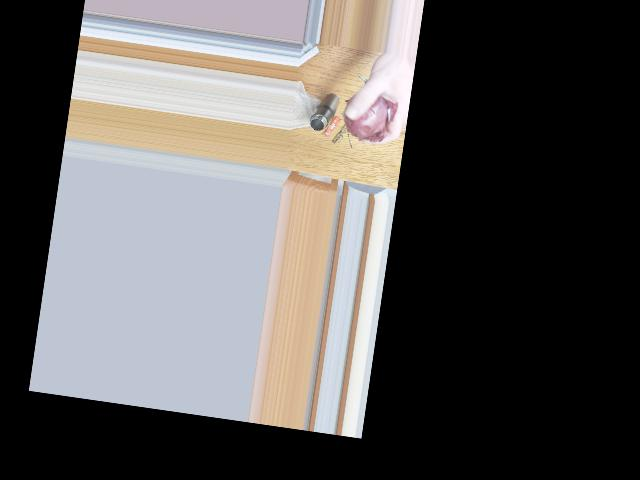onion: (348, 88, 394, 140)
